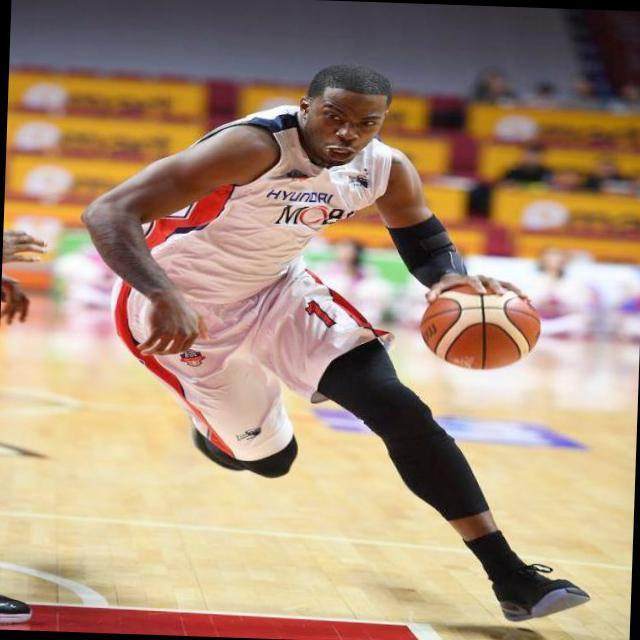ball: (422, 287, 542, 370)
